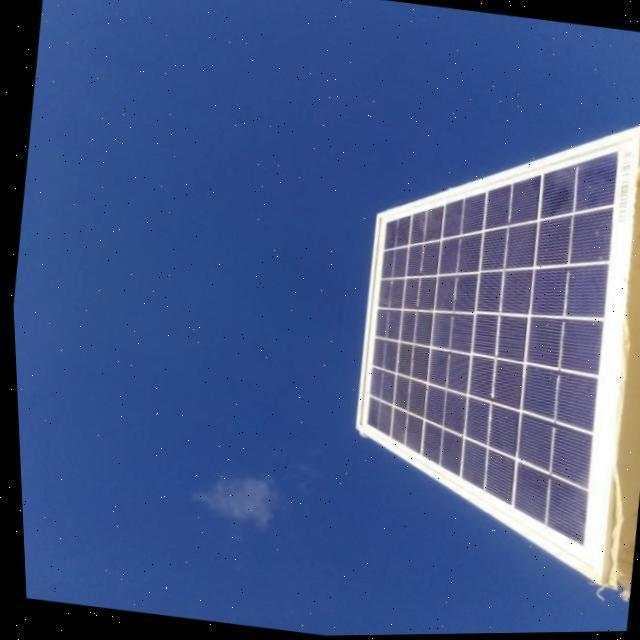Normal Solar Panel: (320, 92, 640, 590)
